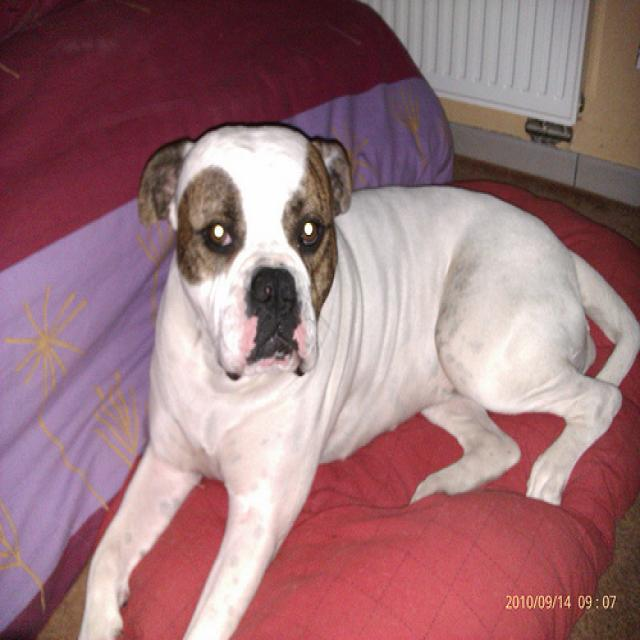dog-american_bulldog: (68, 116, 637, 637)
